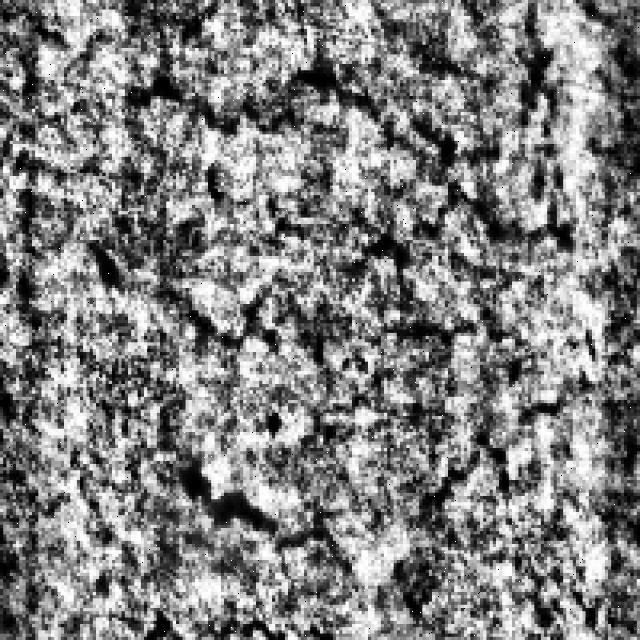Pitted_Surface: (109, 227, 624, 499), (124, 9, 612, 240)
